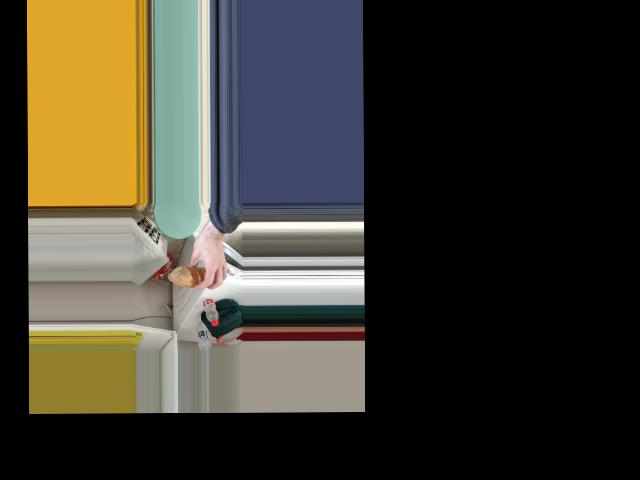sweet_potato: (176, 266, 207, 287)
